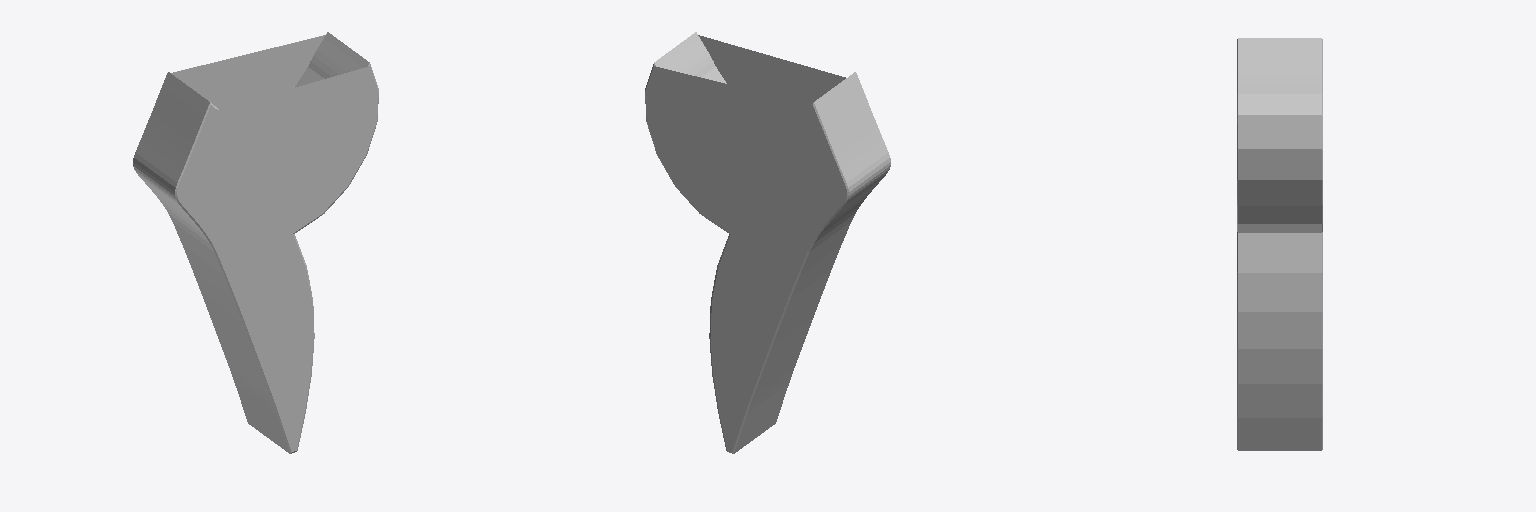
The picture shows the model from 3 angles: view 1: azimuth 30°, elevation 25°; view 2: azimuth 150°, elevation 25°; view 3: azimuth 270°, elevation 25°; orthographic projection.
Parts seen in each view (by area): view 1: 2_Mesh.006; view 2: 2_Mesh.006; view 3: 2_Mesh.006.
Part boxes in pixels (x1,y1,x2,y2): 2_Mesh.006: (133, 32, 378, 453); 2_Mesh.006: (645, 32, 890, 453); 2_Mesh.006: (1237, 38, 1322, 450).
Bounding box in the file's own units: 1.97 × 3.43 × 0.7176.